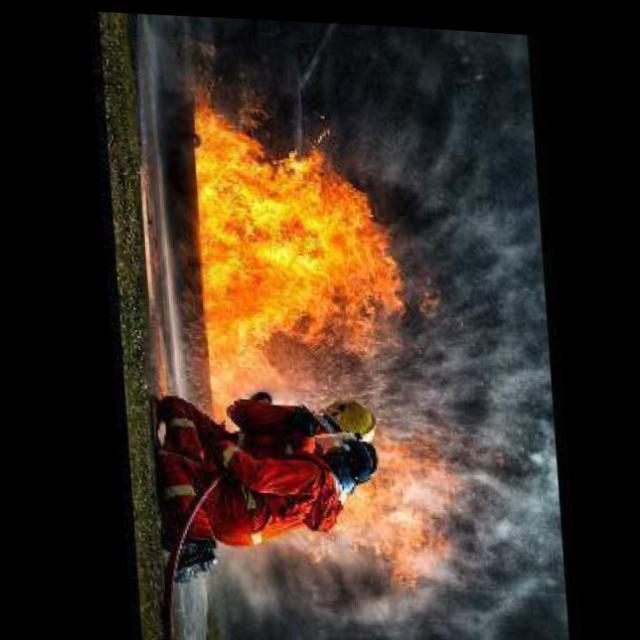Fire: (189, 90, 412, 397), (356, 423, 471, 579)
